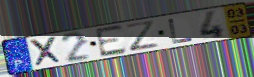2: (60, 31, 95, 65)
4: (199, 9, 227, 39)
E: (94, 23, 129, 59)
L: (167, 17, 196, 46)
X: (27, 35, 66, 69)
Z: (123, 19, 162, 53)
